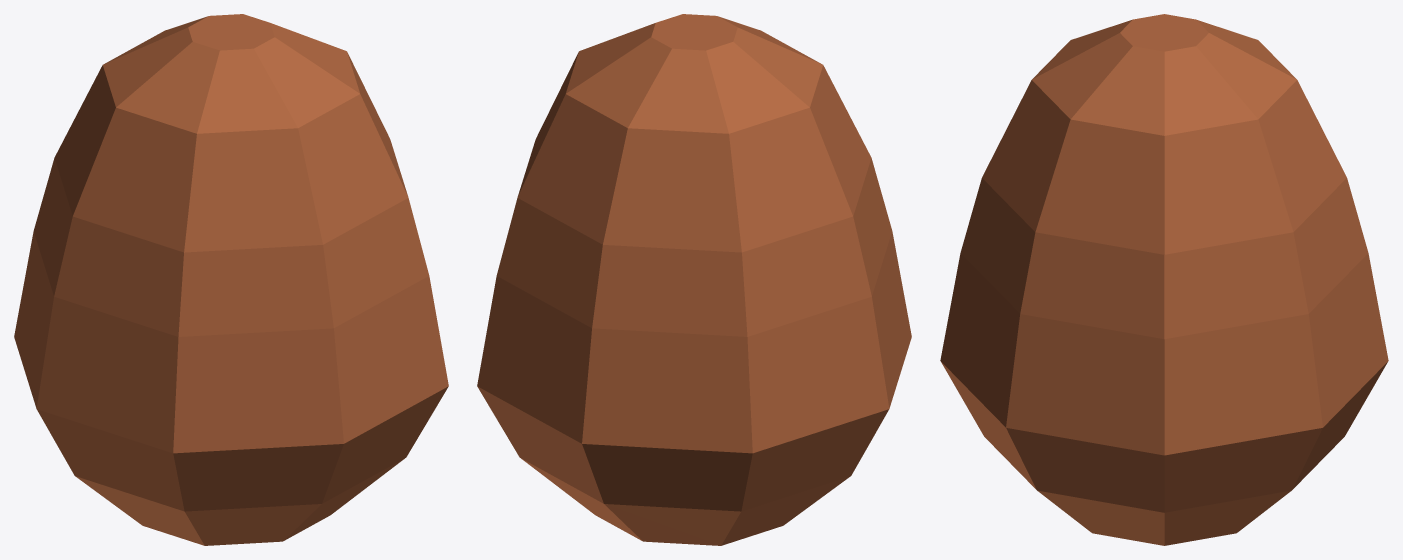
The model's file is olive_pit.obj.
3 renders of one model, left to right at view 1: azimuth 30°, elevation 25°; view 2: azimuth 150°, elevation 25°; view 3: azimuth 270°, elevation 25°, orthographic.
Parts seen in each view (by area): view 1: mangoGreen.002; view 2: mangoGreen.002; view 3: mangoGreen.002.
Part boxes in pixels (x1,y1,x2,y2): mangoGreen.002: (14, 14, 448, 545); mangoGreen.002: (477, 14, 911, 545); mangoGreen.002: (940, 14, 1388, 545).
Size of the model in its own units: 0.00767 by 0.00887 by 0.00767.
